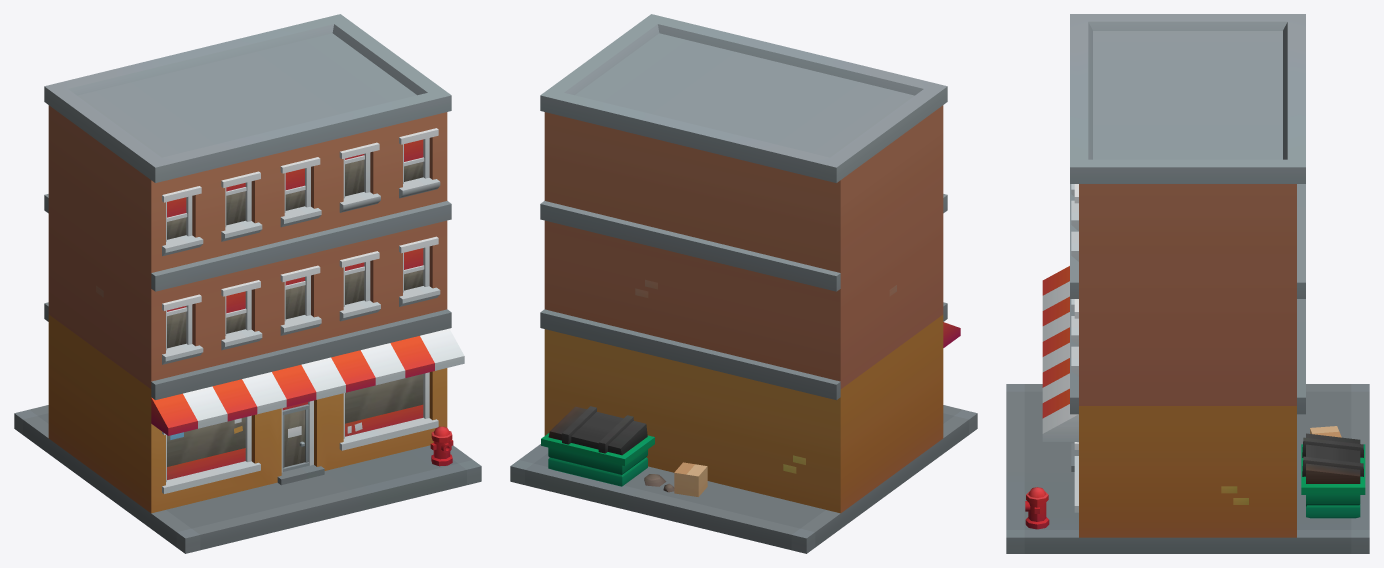
File: kkcity.building_e.glb
3 views of the same model, side by side, from view 1: azimuth 30°, elevation 25°; view 2: azimuth 150°, elevation 25°; view 3: azimuth 270°, elevation 25° (orthographic). The views are drawn at different scales.
Parts seen in each view (by area): view 1: building_E; view 2: building_E; view 3: building_E.
Part boxes in pixels (bbox=[...]): building_E: bbox=[14, 14, 481, 553]; building_E: bbox=[510, 14, 977, 553]; building_E: bbox=[1006, 14, 1369, 553].
Size of the model in its own units: 9.63 by 11.27 by 9.59.
Materials: 1 (1 with a texture image).
